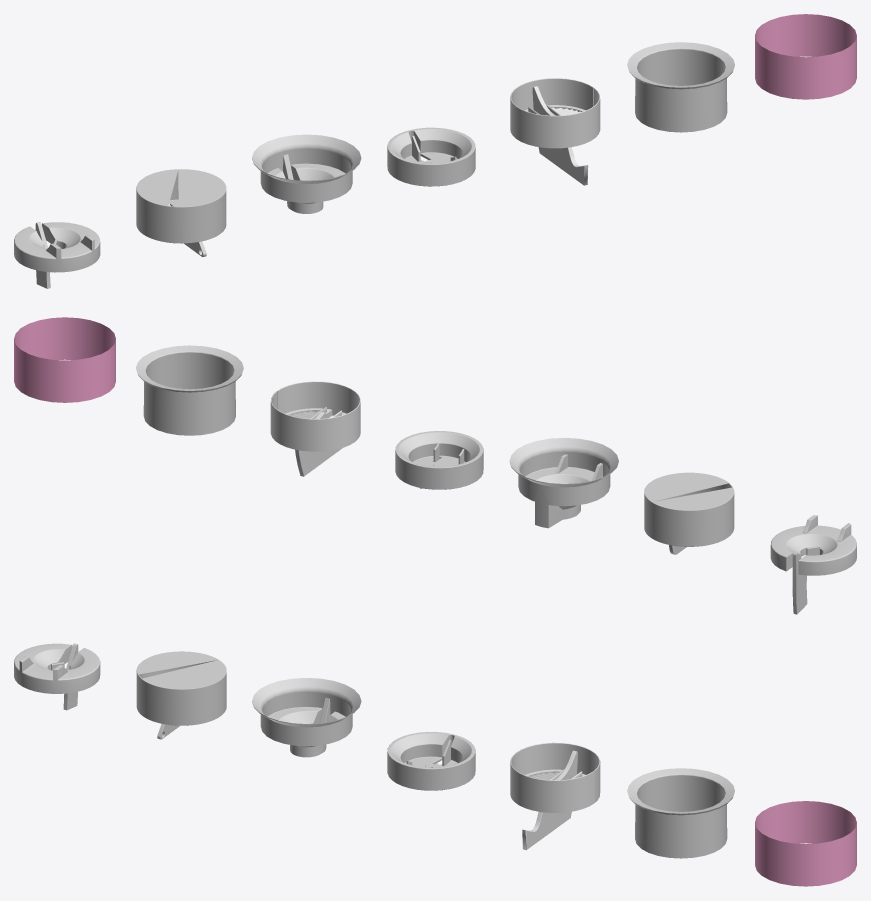
File: Kickers (hipoly).fbx
3 views of the same model, one above another, from view 1: azimuth 30°, elevation 25°; view 2: azimuth 150°, elevation 25°; view 3: azimuth 330°, elevation 25° (orthographic).
Parts seen in each view (by area): view 1: Kicker, Hole (hipoly), Kicker, Hole, Simple (hipoly), Kicker, Gottlieb (hipoly), Kicker, Cup 1 (hipoly), Kicker, Williams (hipoly), Cup 2, Cup, System7, Kickout Hole (hipoly); view 2: Kicker, Hole (hipoly), Kicker, Hole, Simple (hipoly), Kicker, Cup 1 (hipoly), Kicker, Gottlieb (hipoly), Kicker, Williams (hipoly), Cup 2, Cup, System7, Kickout Hole (hipoly), System7, Ball Thrower (hipoly); view 3: Kicker, Hole (hipoly), Kicker, Hole, Simple (hipoly), Kicker, Gottlieb (hipoly), Kicker, Cup 1 (hipoly), Kicker, Williams (hipoly), Cup 2, Cup, System7, Kickout Hole (hipoly).
Boxes of the visible parts, x1,y1,x2,y2 form: Kicker, Hole (hipoly): (627,42,734,132); Kicker, Hole, Simple (hipoly): (755,14,856,99); Kicker, Gottlieb (hipoly): (510,78,600,185); Kicker, Cup 1 (hipoly): (252,134,361,213); Kicker, Williams (hipoly): (136,169,226,257); Cup 2, Cup: (387,127,475,186); System7, Kickout Hole (hipoly): (14,222,100,272); Kicker, Hole (hipoly): (136,345,243,435); Kicker, Hole, Simple (hipoly): (14,317,115,402); Kicker, Cup 1 (hipoly): (509,437,618,528); Kicker, Gottlieb (hipoly): (270,381,360,476); Kicker, Williams (hipoly): (644,472,734,554); Cup 2, Cup: (395,431,483,489); System7, Kickout Hole (hipoly): (770,515,856,575); System7, Ball Thrower (hipoly): (792,552,807,614); Kicker, Hole (hipoly): (627,768,734,858); Kicker, Hole, Simple (hipoly): (755,801,856,886); Kicker, Gottlieb (hipoly): (510,742,600,850); Kicker, Cup 1 (hipoly): (252,678,361,757); Kicker, Williams (hipoly): (136,651,226,739); Cup 2, Cup: (387,732,475,790); System7, Kickout Hole (hipoly): (14,643,100,693).
Size of the model in its own units: 33.8 by 3.12 by 4.13.
